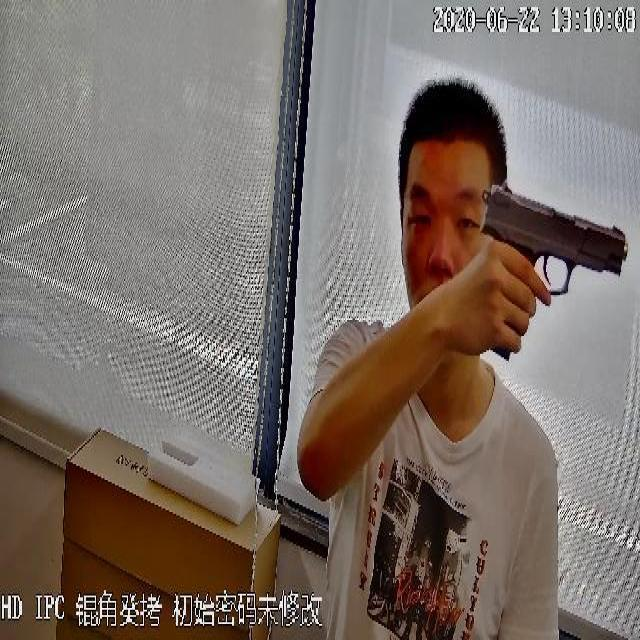pistol: (479, 174, 629, 363)
